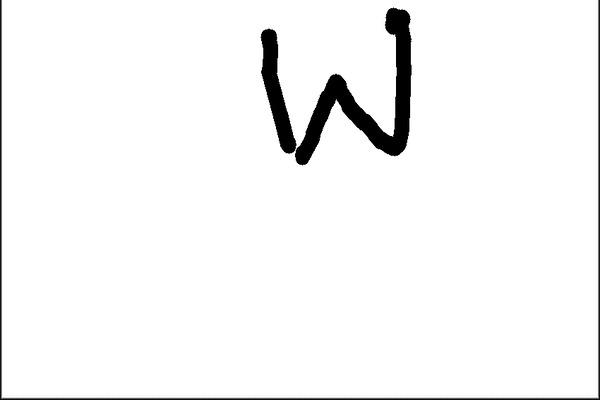w: (251, 0, 430, 185)
